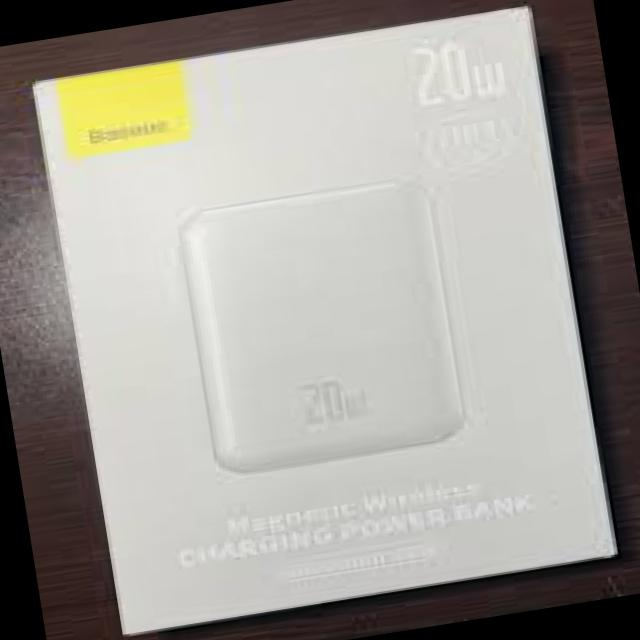portable-charger: (178, 173, 474, 477)
